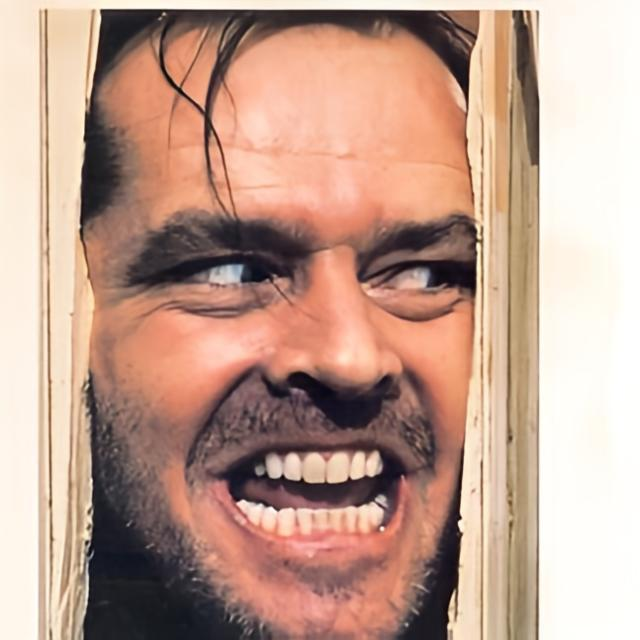anger: (90, 58, 477, 622)
